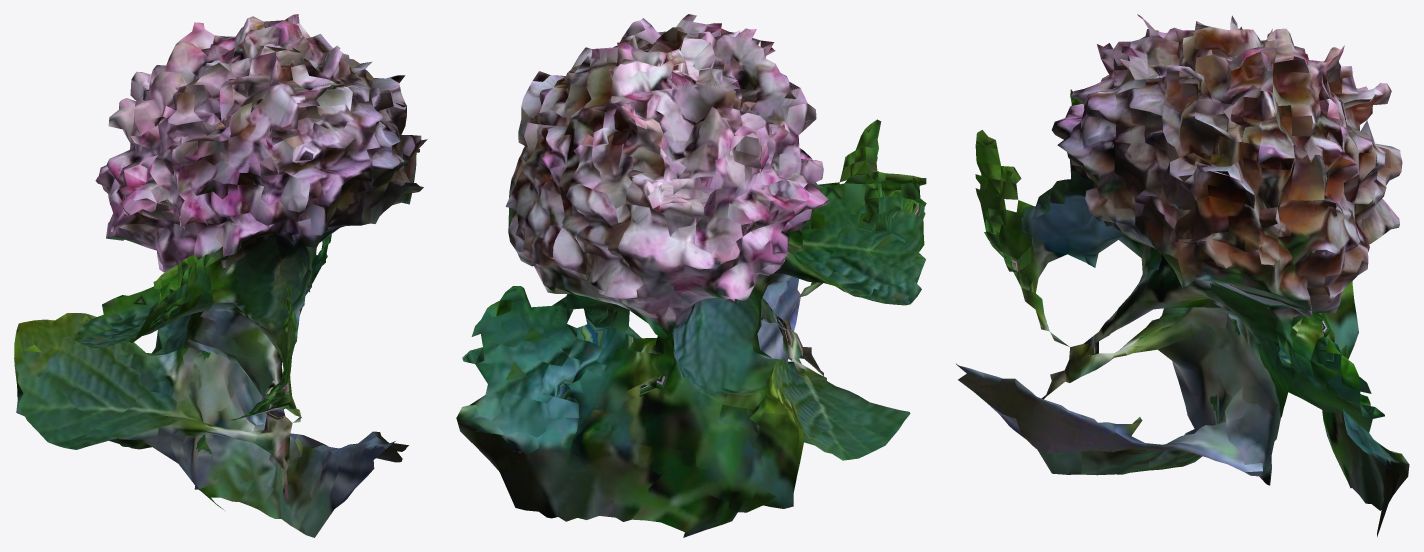
3 renders of one model, left to right at view 1: azimuth 30°, elevation 25°; view 2: azimuth 150°, elevation 25°; view 3: azimuth 270°, elevation 25°, orthographic. The views are drawn at different scales.
Parts seen in each view (by area): view 1: 045fcd57; view 2: 045fcd57; view 3: 045fcd57.
Boxes of the visible parts, x1,y1,x2,y2 form: 045fcd57: [14, 14, 427, 537]; 045fcd57: [456, 14, 926, 537]; 045fcd57: [956, 14, 1409, 536].
Bounding box in the file's own units: 0.1588 × 0.179 × 0.1587.
Materials: 1 (1 with a texture image).
